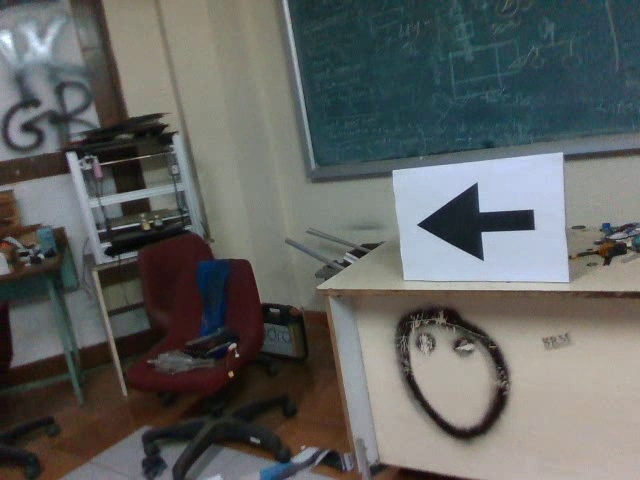Left: (408, 174, 540, 265)
